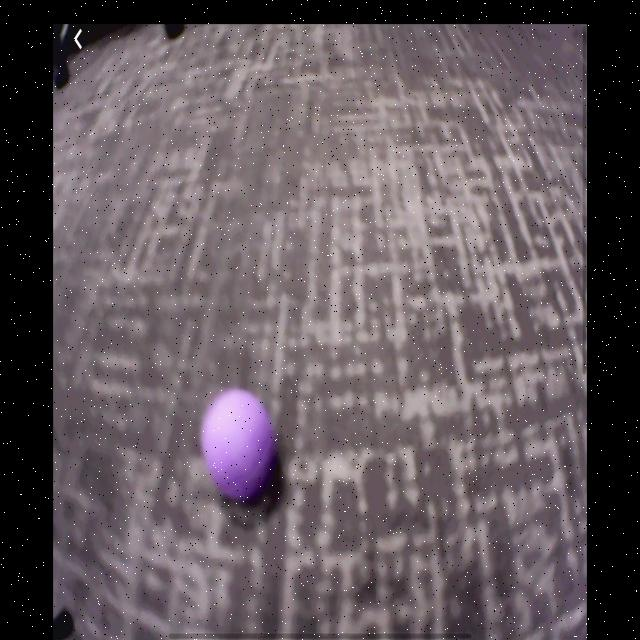ball: (201, 392, 272, 503)
